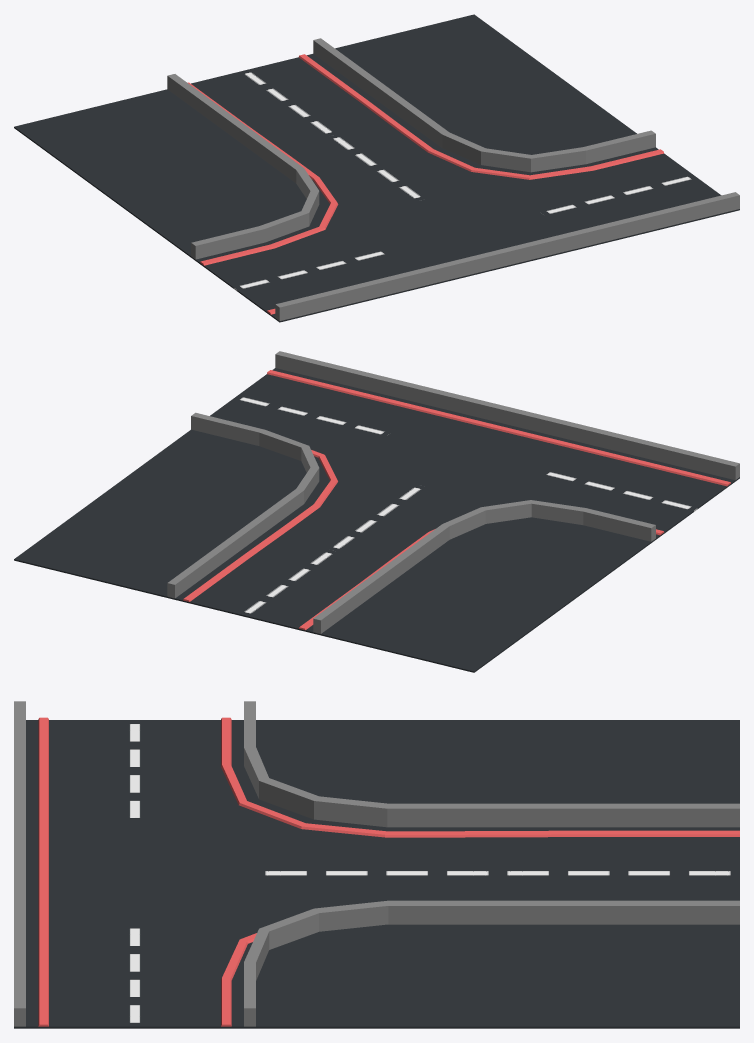
The model's file is kartkids_base_trk_150_jct_tjunction_3x3.gltf.
3 views of the same model, one above another, from view 1: azimuth 30°, elevation 25°; view 2: azimuth 150°, elevation 25°; view 3: azimuth 270°, elevation 25° (orthographic). The views are drawn at different scales.
Parts seen in each view (by area): view 1: kartkids_base_trk_150_jct_tjunction_3x3, kartkids_base_trk_150_jct_tjunction_3x3.001, kartkids_base_trk_150_jct_tjunction_3x3.003, kartkids_base_trk_150_jct_tjunction_3x3.004; view 2: kartkids_base_trk_150_jct_tjunction_3x3, kartkids_base_trk_150_jct_tjunction_3x3.001, kartkids_base_trk_150_jct_tjunction_3x3.003, kartkids_base_trk_150_jct_tjunction_3x3.002, kartkids_base_trk_150_jct_tjunction_3x3.004; view 3: kartkids_base_trk_150_jct_tjunction_3x3, kartkids_base_trk_150_jct_tjunction_3x3.001, kartkids_base_trk_150_jct_tjunction_3x3.004, kartkids_base_trk_150_jct_tjunction_3x3.003, kartkids_base_trk_150_jct_tjunction_3x3.002.
Part boxes in pixels (left/top/right/bottom): kartkids_base_trk_150_jct_tjunction_3x3: left=14, top=14, right=739, bottom=322; kartkids_base_trk_150_jct_tjunction_3x3.001: left=167, top=38, right=655, bottom=259; kartkids_base_trk_150_jct_tjunction_3x3.003: left=275, top=192, right=739, bottom=320; kartkids_base_trk_150_jct_tjunction_3x3.004: left=187, top=54, right=664, bottom=265; kartkids_base_trk_150_jct_tjunction_3x3: left=14, top=368, right=739, bottom=672; kartkids_base_trk_150_jct_tjunction_3x3.001: left=167, top=412, right=655, bottom=633; kartkids_base_trk_150_jct_tjunction_3x3.003: left=275, top=351, right=739, bottom=480; kartkids_base_trk_150_jct_tjunction_3x3.002: left=267, top=370, right=730, bottom=486; kartkids_base_trk_150_jct_tjunction_3x3.004: left=183, top=450, right=664, bottom=630; kartkids_base_trk_150_jct_tjunction_3x3: left=14, top=720, right=739, bottom=1028; kartkids_base_trk_150_jct_tjunction_3x3.001: left=244, top=701, right=739, bottom=1026; kartkids_base_trk_150_jct_tjunction_3x3.004: left=221, top=717, right=739, bottom=1026; kartkids_base_trk_150_jct_tjunction_3x3.003: left=14, top=701, right=25, bottom=1026; kartkids_base_trk_150_jct_tjunction_3x3.002: left=38, top=717, right=48, bottom=1026.
Size of the model in its own units: 30 by 0.9339 by 30.
Materials: 3 (1 with a texture image).
